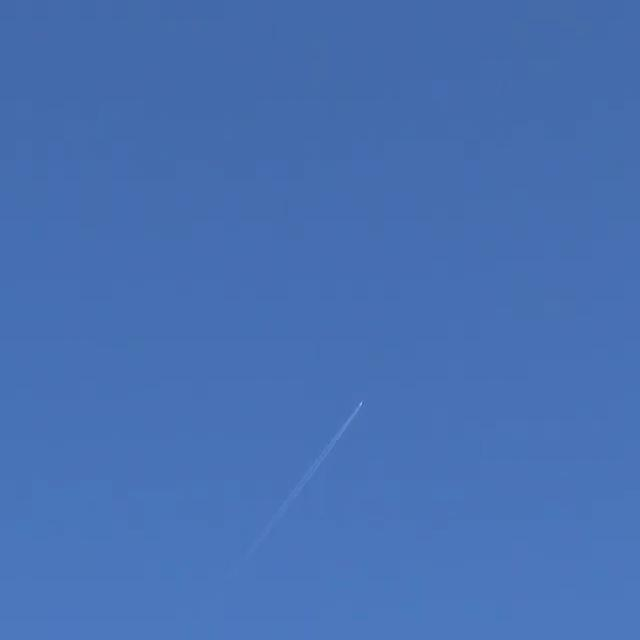AirPlane: (310, 390, 370, 467)
